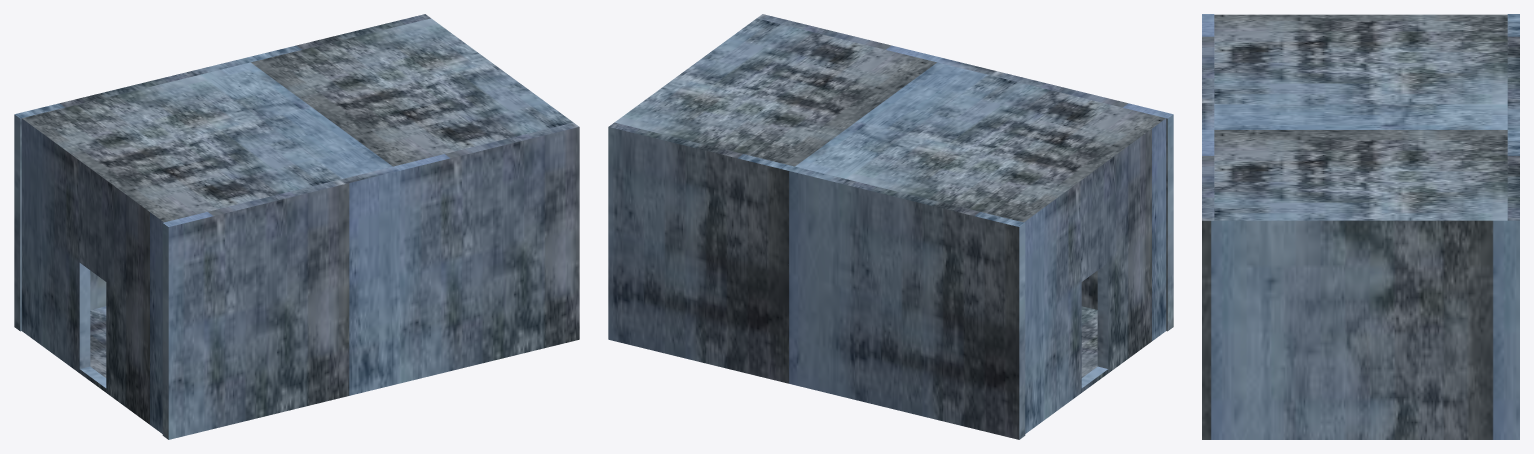
Rendered from shit.glb.
3 views of the same model, side by side, from view 1: azimuth 30°, elevation 25°; view 2: azimuth 150°, elevation 25°; view 3: azimuth 270°, elevation 25° (orthographic). The views are drawn at different scales.
Parts seen in each view (by area): view 1: Cube; view 2: Cube; view 3: Cube.
Boxes of the visible parts, left/top/right/bottom form: Cube: left=14, top=14, right=579, bottom=439; Cube: left=608, top=14, right=1173, bottom=439; Cube: left=1202, top=14, right=1519, bottom=439.
Bounding box in the file's own units: 8 × 3.96 × 5.2.
Materials: 1 (1 with a texture image).
